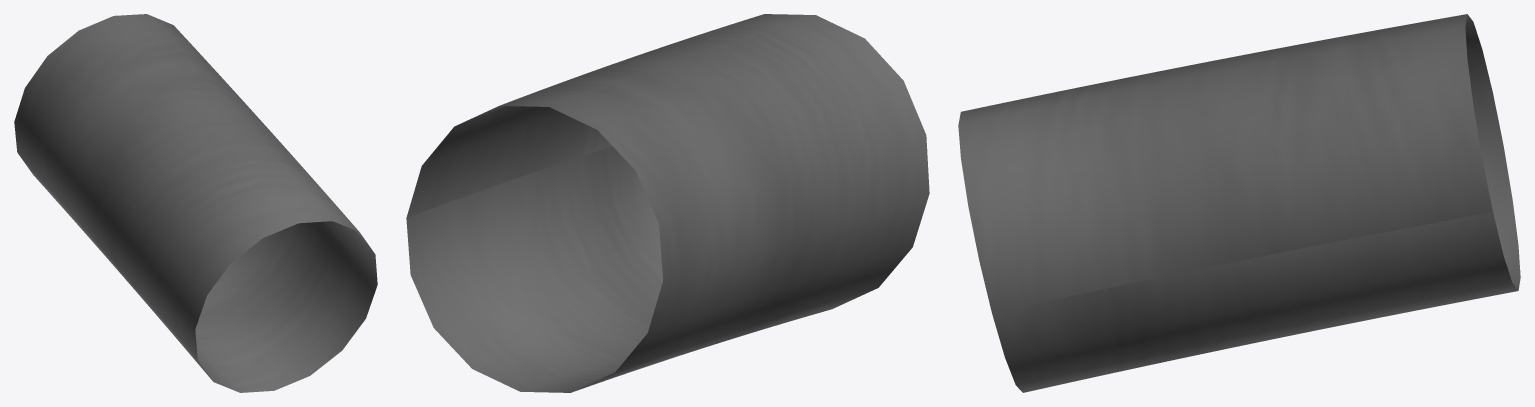
The model's file is mastarmcurve_10x2_c5.obj.
3 views of the same model, side by side, from view 1: azimuth 30°, elevation 25°; view 2: azimuth 150°, elevation 25°; view 3: azimuth 270°, elevation 25° (orthographic). The views are drawn at different scales.
Visible parts, largest first — view 1: mastarm_10x2_c5; view 2: mastarm_10x2_c5; view 3: mastarm_10x2_c5.
Boxes of the visible parts, x1,y1,x2,y2 form: mastarm_10x2_c5: (14,14,377,392); mastarm_10x2_c5: (406,14,929,392); mastarm_10x2_c5: (958,14,1520,392).
Bounding box in the file's own units: 0.575 × 0.7753 × 1.12.
